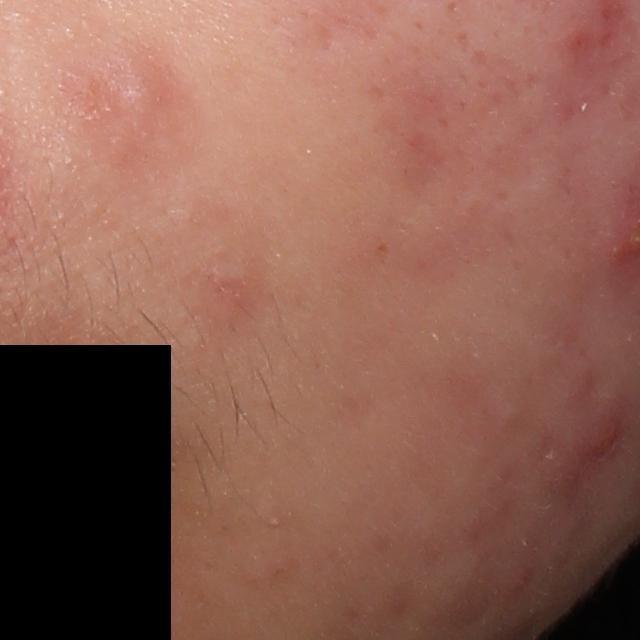comedo: (494, 394, 529, 433)
papule: (102, 65, 172, 135), (580, 409, 626, 461)
